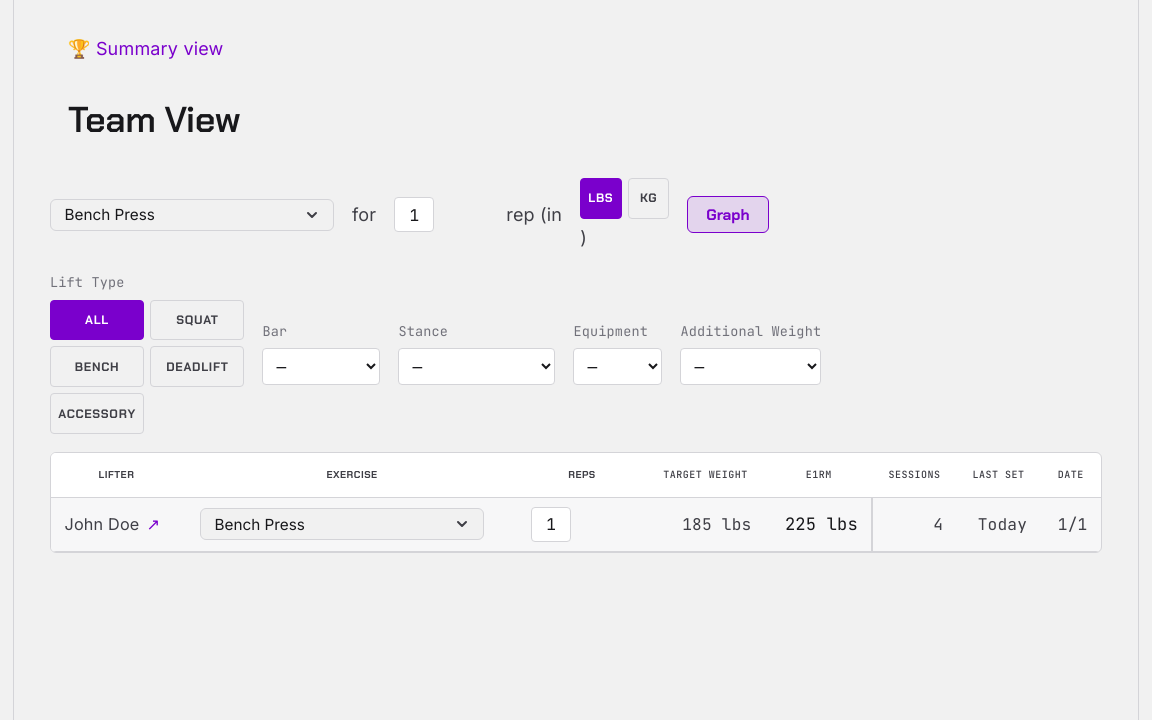
it: TeamViewPage › clicking Graph button renders the history chart section and highlights the button
Click the button "Graph" at (728, 215), box [687, 196, 769, 233]
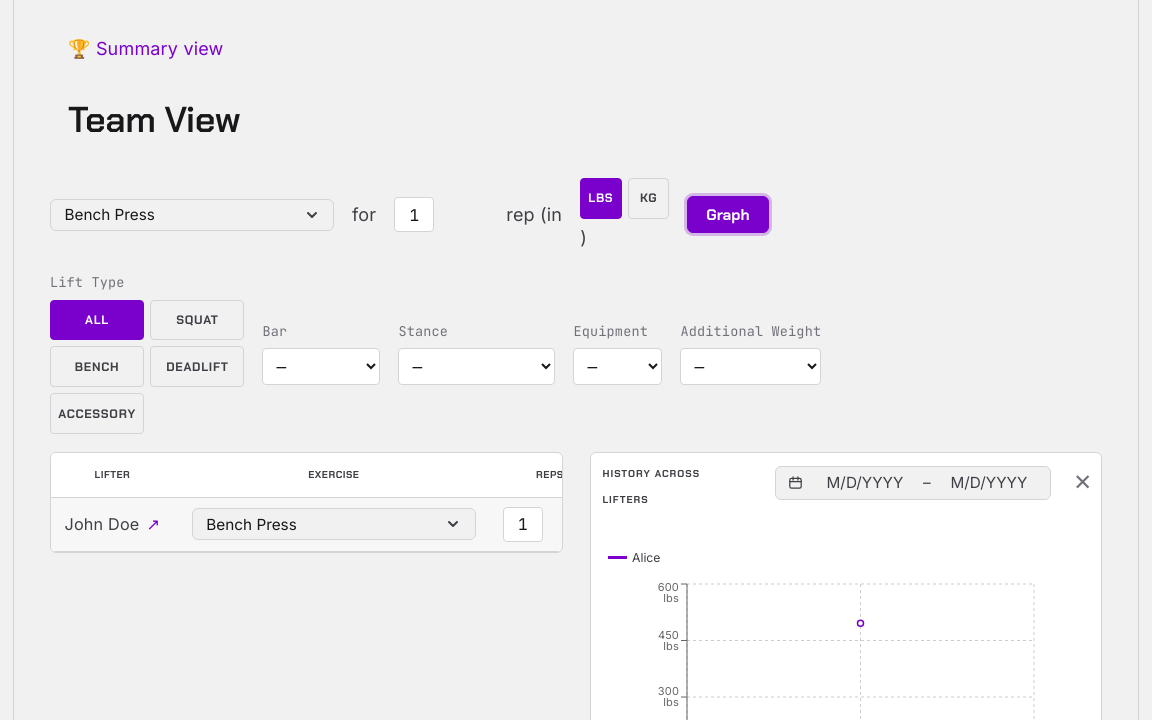
Result: the text "History Across Lifters" is shown at [602, 467, 700, 506]
